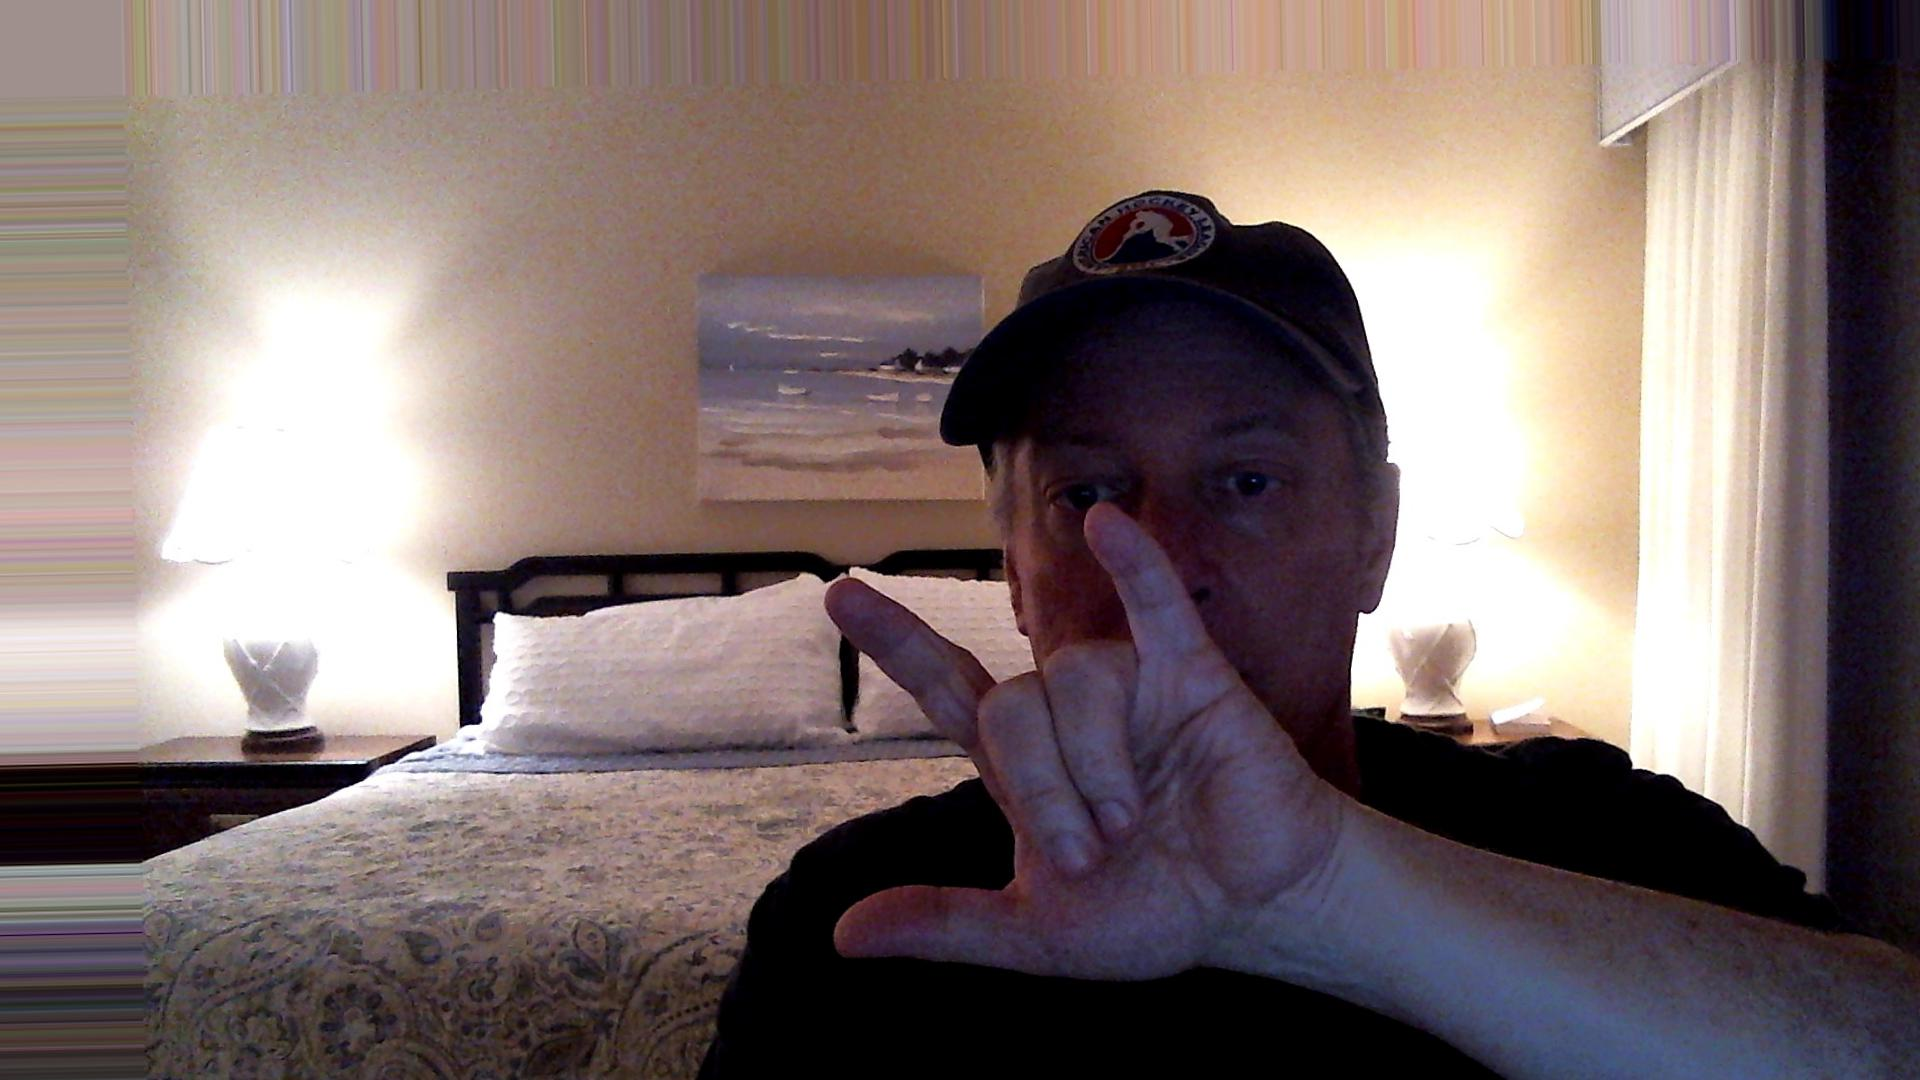I Love You: (793, 495, 1369, 978)
